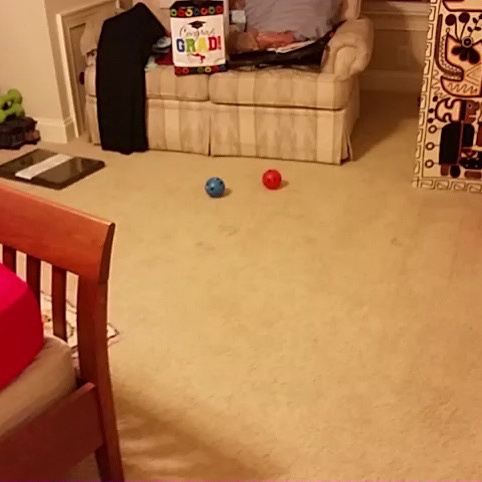blueball: (201, 174, 228, 198)
redball: (259, 164, 285, 192)
